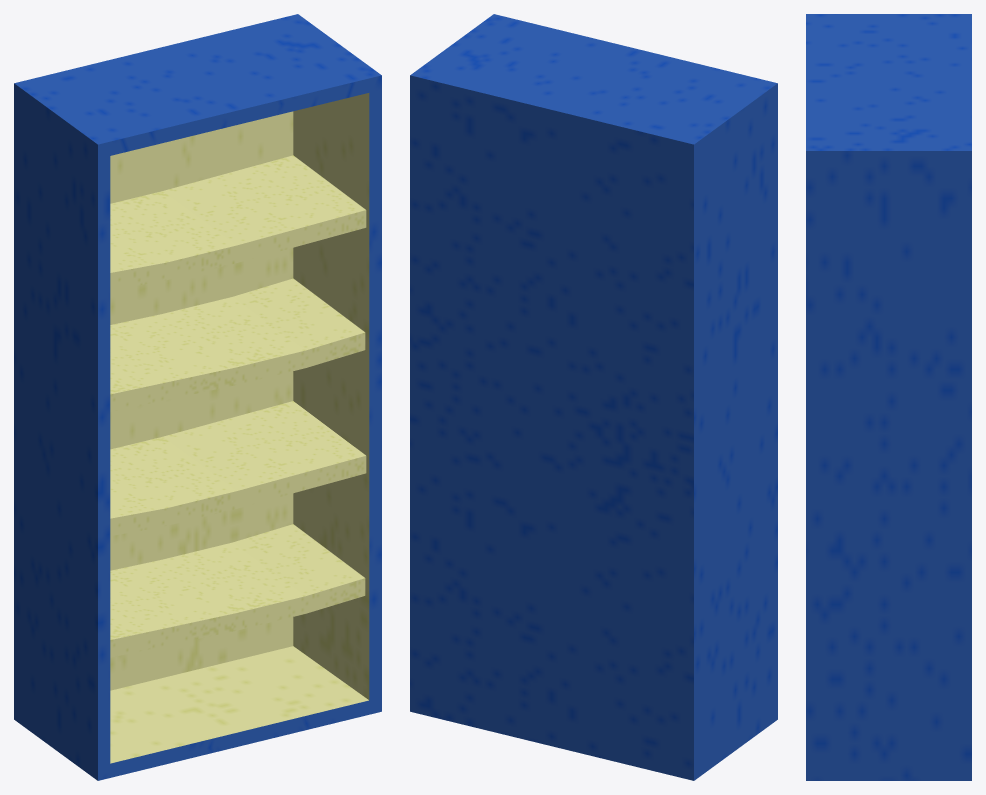
The model's file is library_bookshelf_skinny_empty_blue.fbx.
The picture shows the model from 3 angles, left to right: view 1: azimuth 30°, elevation 25°; view 2: azimuth 150°, elevation 25°; view 3: azimuth 270°, elevation 25°; orthographic projection.
Parts seen in each view (by area): view 1: Cube.022, Cube.023; view 2: Cube.022; view 3: Cube.022.
Boxes of the visible parts, x1=… form: Cube.022: x1=14, y1=14, x2=381, y2=780; Cube.023: x1=110, y1=155, x2=366, y2=657; Cube.022: x1=410, y1=14, x2=777, y2=780; Cube.022: x1=806, y1=14, x2=971, y2=780.
Size of the model in its own units: 117 by 251 by 59.89.
